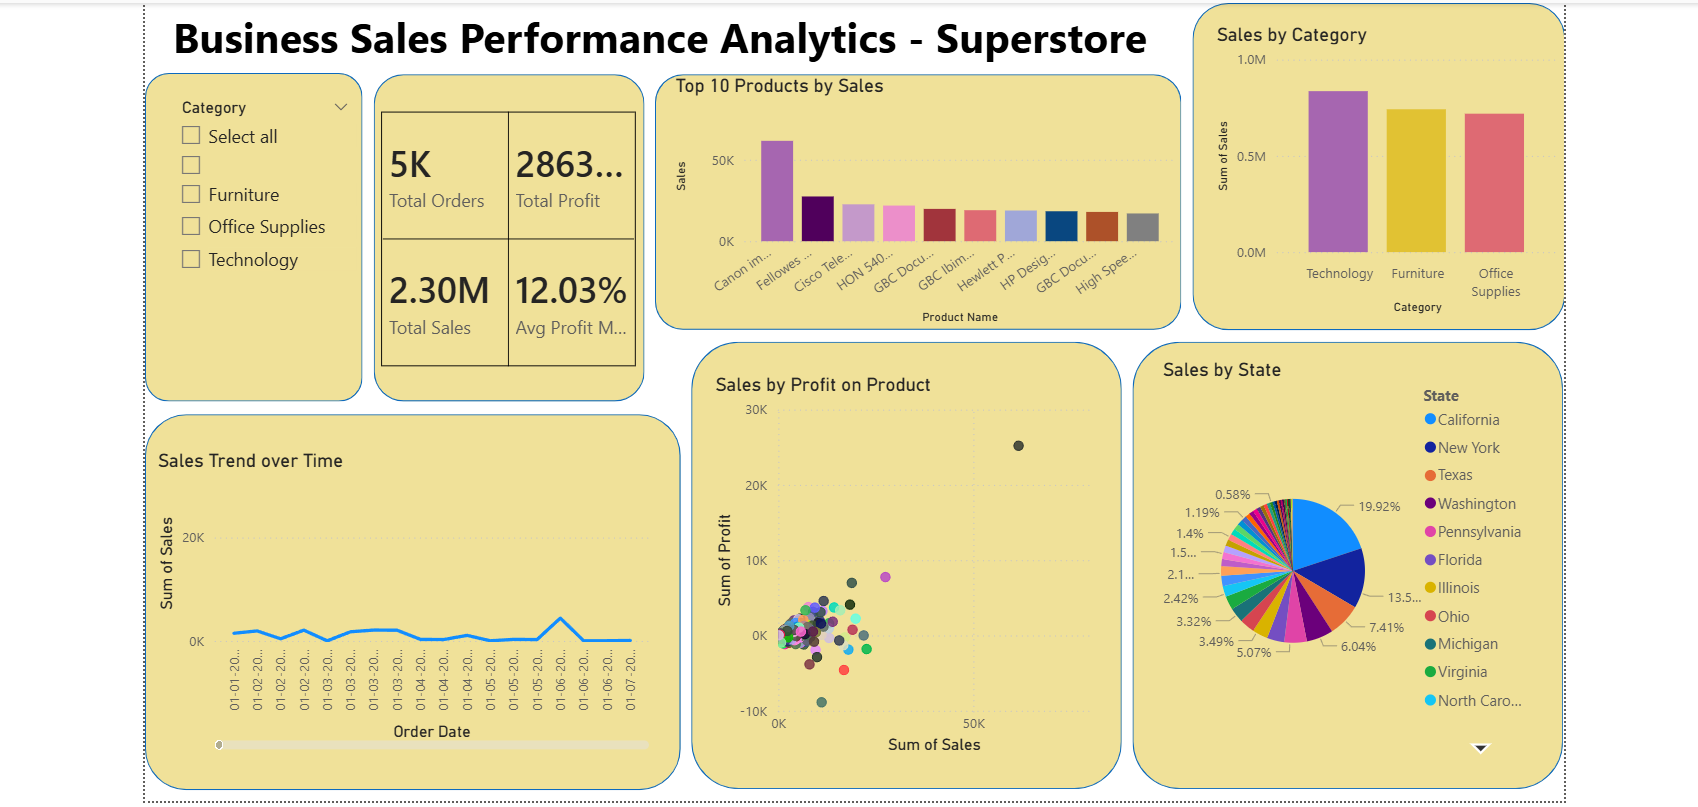

The dashboard page shown, as its layout file describes it:
{"tool":"powerbi","page":{"name":"Page 1","canvas":[1280,720],"ordinal":0},"visuals":[{"type":"shape","box":[0,63.1,196.2,296.4],"z":0},{"type":"shape","box":[459.7,64.5,474.8,230.5],"z":1000},{"type":"shape","box":[205.8,64.5,244.3,295],"z":2000},{"type":"shape","box":[0,370.5,483,338.9],"z":3000},{"type":"shape","box":[492.6,306,388.3,403.4],"z":4000},{"type":"shape","box":[890.6,306,388.3,403.4],"z":5000},{"type":"shape","box":[944.1,0,336.2,295],"z":6000},{"type":"cardVisual","fields":{"Data":["Sample - Superstore.Total Orders","Sample - Superstore.Total Profit","Sample - Superstore.Total Sales","Sample - Superstore.Avg Profit Margin"]},"box":[196.2,81,263.5,263.5],"z":7000},{"type":"textbox","box":[20.6,0,904.3,64.5],"z":8000},{"type":"lineChart","title":"Sales Trend over Time","fields":{"Y":["Sum(Sample - Superstore.Sales)"],"Category":["Sample - Superstore.Month"]},"box":[6.9,402.1,452.8,275.8],"z":9000},{"type":"columnChart","title":"Sales by Category","fields":{"Category":["Sample - Superstore.Category"],"Y":["Sum(Sample - Superstore.Sales)"]},"box":[961.9,17.8,318.4,267.6],"z":10000},{"type":"pieChart","title":"Sales by State","fields":{"Y":["Sample - Superstore.Total Sales"],"Category":["Sample - Superstore.State"]},"box":[912.5,319.7,345.8,365],"z":11000},{"type":"columnChart","title":"Top 10 Products by Sales","fields":{"Y":["Sum(Sample - Superstore.Sales)"],"Category":["Sample - Superstore.Product Name"]},"box":[473.4,64.5,461.1,230.5],"z":12000},{"type":"scatterChart","title":"Sales by Profit on Product","fields":{"X":["Sum(Sample - Superstore.Sales)"],"Y":["Sum(Sample - Superstore.Profit)"],"Category":["Sample - Superstore.Product Name"]},"box":[509.1,333.4,358.1,348.5],"z":13000},{"type":"slicer","fields":{"Values":["Sample - Superstore.Category"]},"box":[20.6,81,175.6,263.5],"z":14000}]}

Visuals, with their boxes in screenshot pixels (x1, y1, x2, y2):
shape: Rect(137, 30, 355, 359)
shape: Rect(647, 32, 1173, 287)
shape: Rect(365, 32, 636, 359)
shape: Rect(137, 371, 672, 746)
shape: Rect(683, 299, 1113, 746)
shape: Rect(1124, 299, 1555, 746)
shape: Rect(1183, 0, 1556, 287)
cardVisual - Sample - Superstore.Total Orders x Sample - Superstore.Total Profit: Rect(355, 50, 647, 342)
textbox: Rect(160, 0, 1162, 32)
"Sales Trend over Time" lineChart: Rect(145, 406, 647, 712)
"Sales by Category" columnChart: Rect(1203, 0, 1556, 277)
"Sales by State" pieChart: Rect(1148, 315, 1532, 719)
"Top 10 Products by Sales" columnChart: Rect(662, 32, 1173, 287)
"Sales by Profit on Product" scatterChart: Rect(701, 330, 1098, 716)
slicer - Sample - Superstore.Category: Rect(160, 50, 355, 342)
